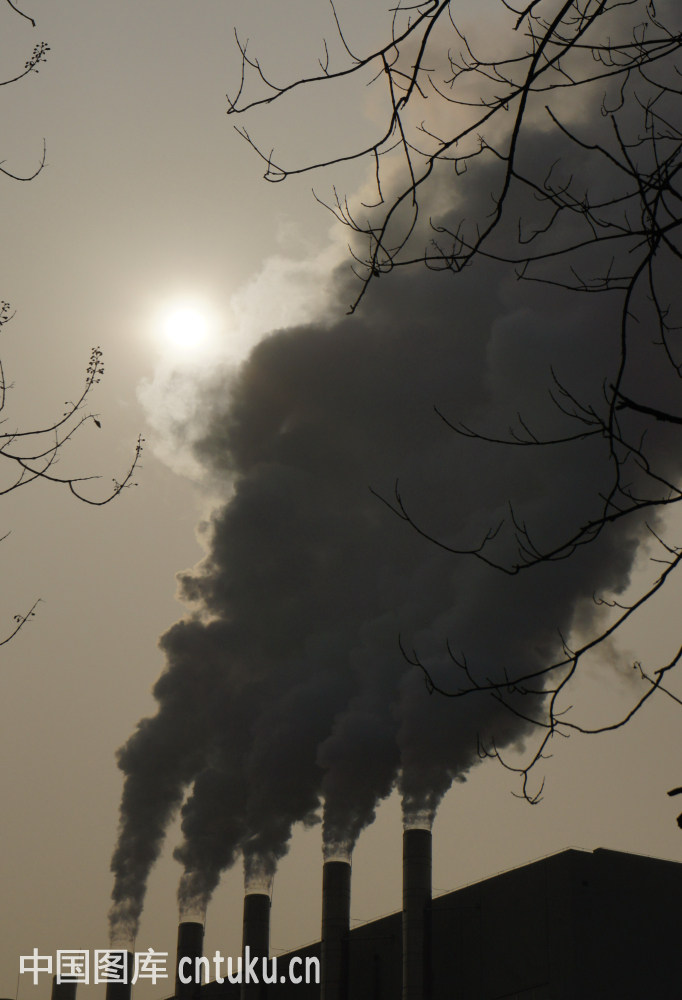dust: (166, 638, 381, 904), (93, 587, 218, 936), (335, 682, 538, 844)
